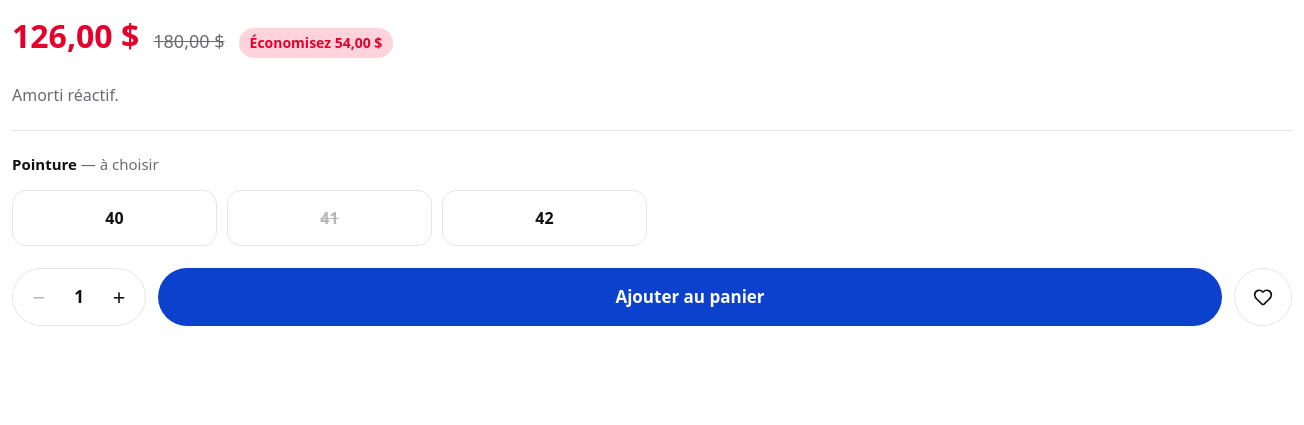
BlocAchat — ajout au panier › ajoute la pointure et la quantité choisies, puis confirme
Click the button "Ajouter au panier". click: point(690, 296)
box: x1=158 y1=268 x2=1222 y2=326
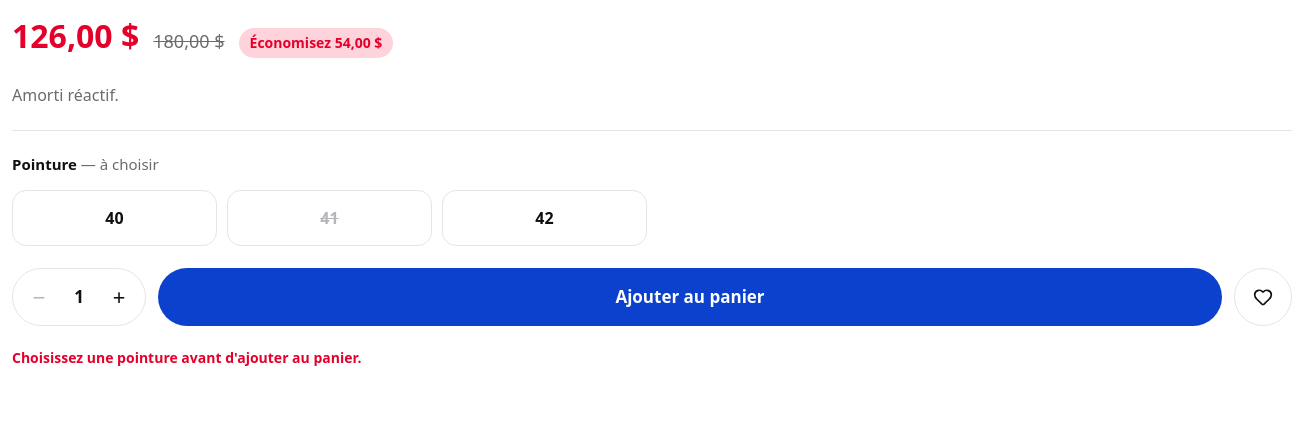
Click the button "42". click: point(544, 218)
box: x1=442 y1=190 x2=647 y2=246
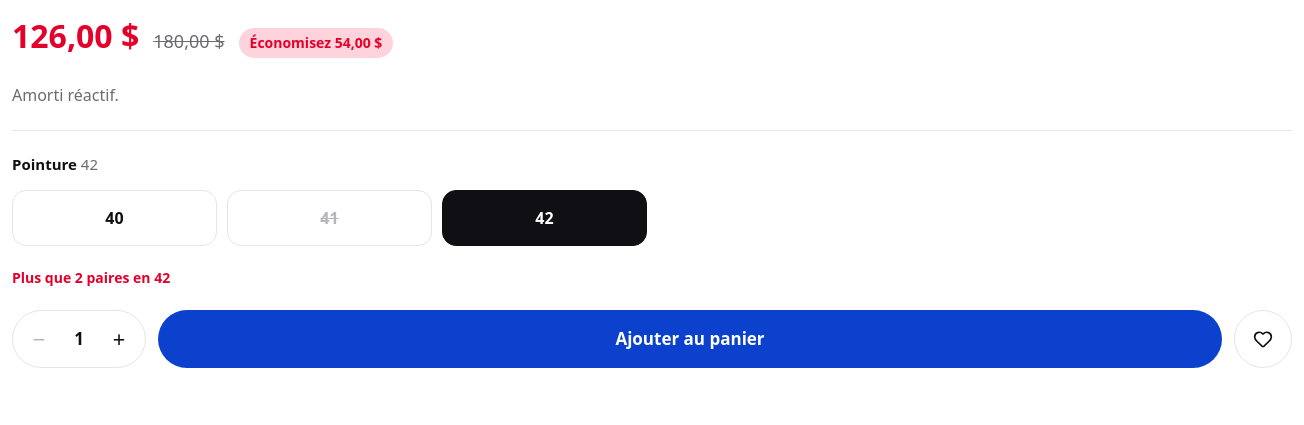
Result: the message "Choisissez une pointure avant d'ajouter au panier." is gone
Click the button named "Augmenter la quantité". click: point(119, 338)
box: x1=93 y1=310 x2=145 y2=366
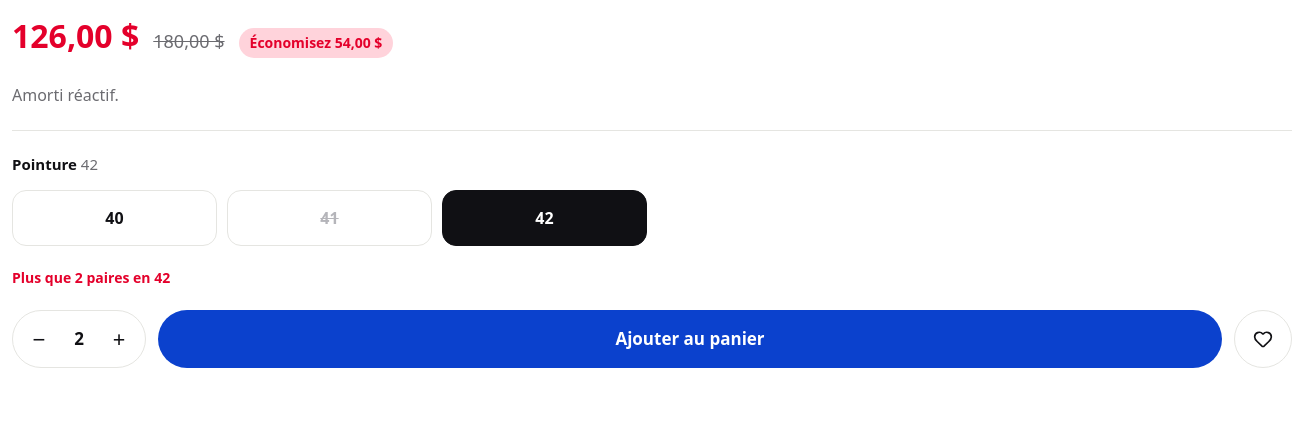
Click the button "Ajouter au panier". click: point(690, 338)
box: x1=158 y1=310 x2=1222 y2=368
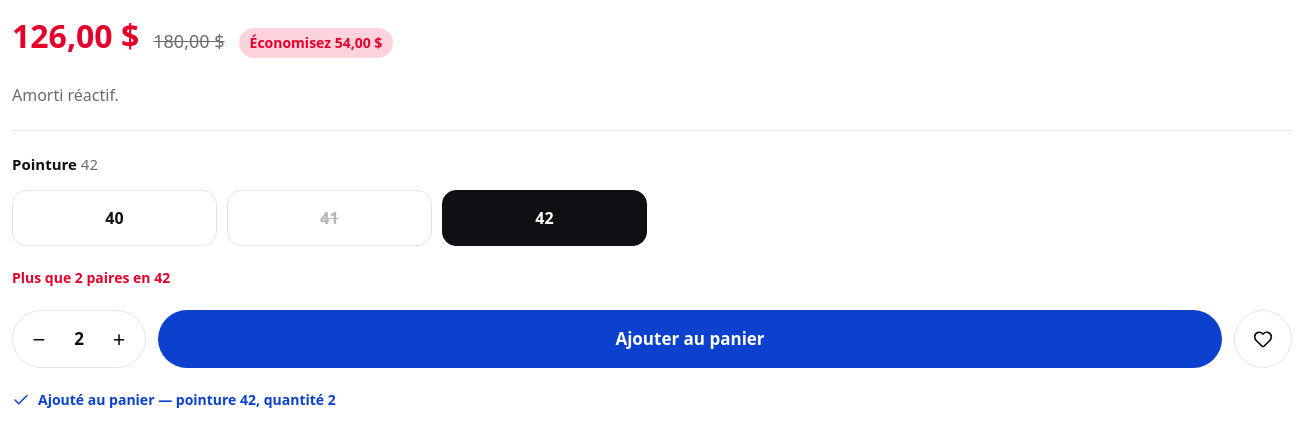
Result: the message reads "Ajouté au panier — pointure 42, quantité 2" at x1=38 y1=390 x2=336 y2=408
Result: the icon with class "lucide-check" is shown at x1=12 y1=390 x2=30 y2=408
